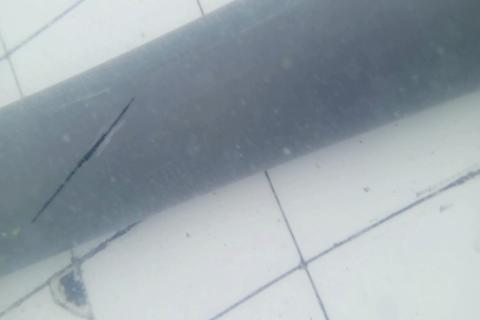keretakan: (31, 95, 133, 223)
